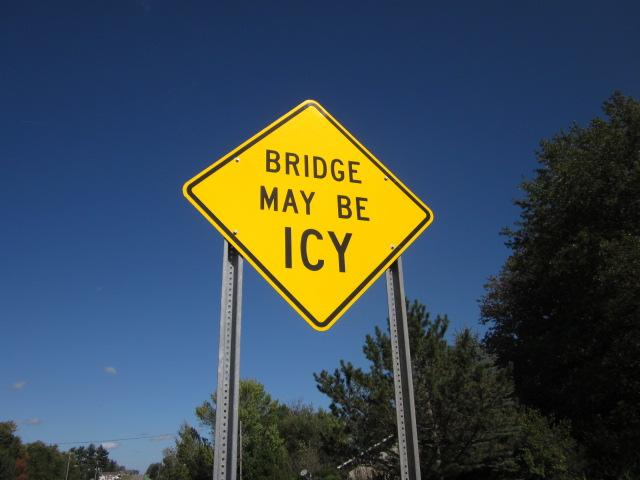warning: (181, 96, 438, 332)
